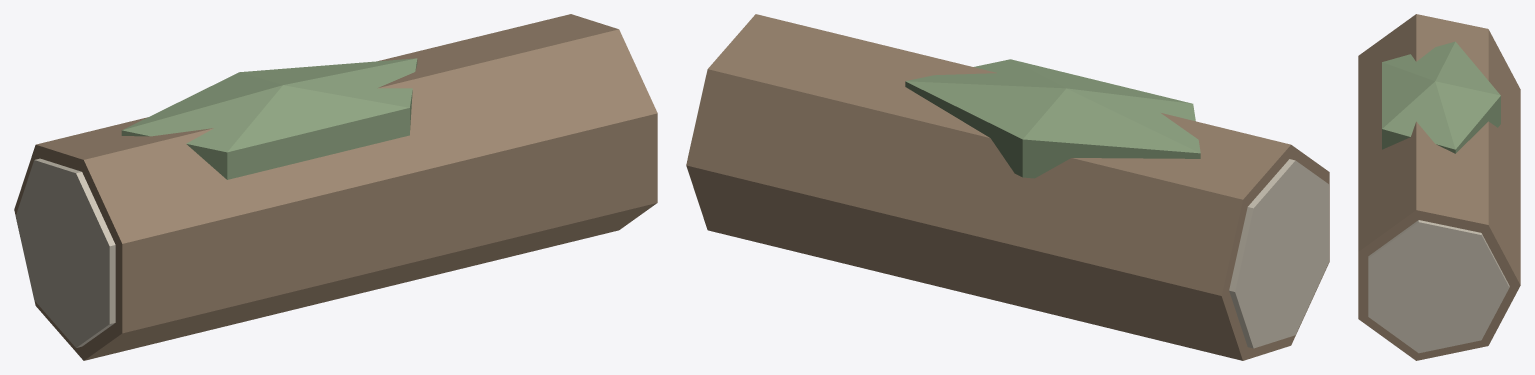
File: fallen-log.glb
The picture shows the model from 3 angles, left to right: view 1: azimuth 30°, elevation 25°; view 2: azimuth 150°, elevation 25°; view 3: azimuth 270°, elevation 25°; orthographic projection. The views are drawn at different scales.
Parts seen in each view (by area): view 1: fallen_log; view 2: fallen_log; view 3: fallen_log.
Boxes of the visible parts, x1,y1,x2,y2 form: fallen_log: (14,14,657,360); fallen_log: (686,14,1329,360); fallen_log: (1358,14,1520,360).
Size of the model in its own units: 0.426 by 0.1597 by 0.1457.
